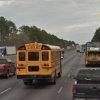buses: (17, 42, 64, 82)
